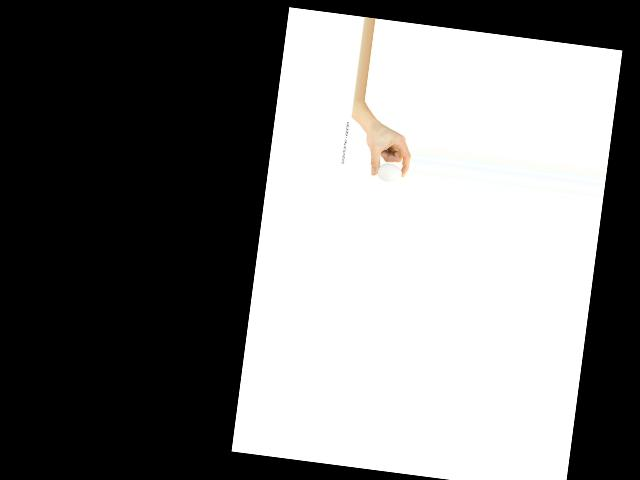egg: (376, 161, 402, 182)
